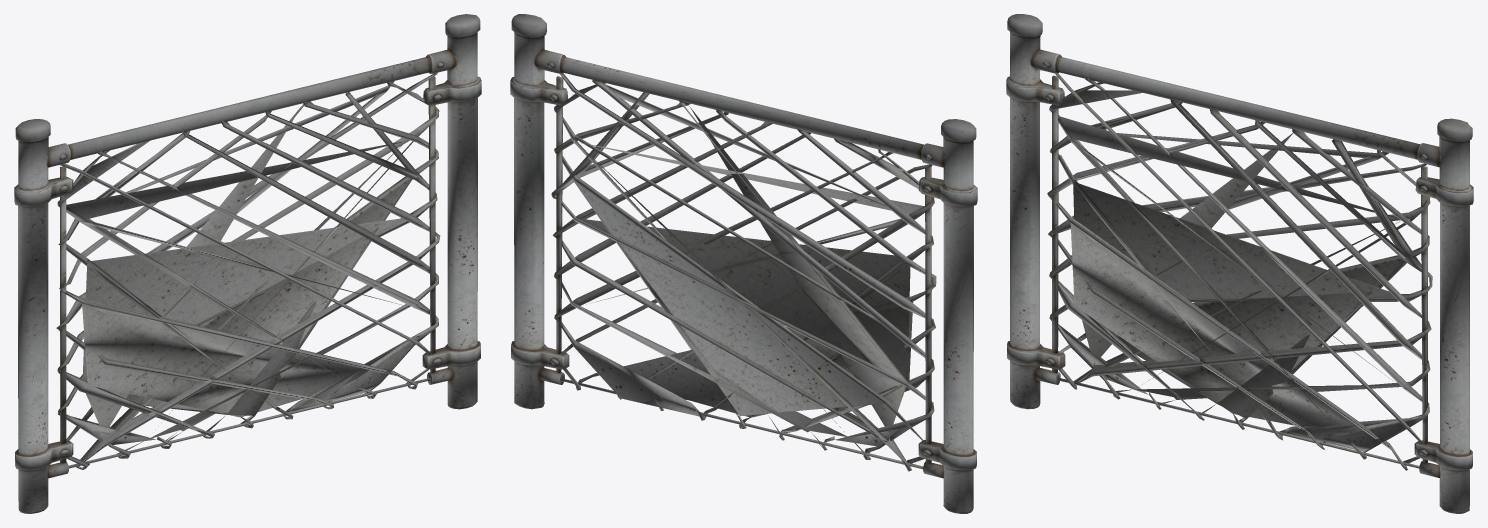
The model's file is fence.glb.
The picture shows the model from 3 angles, left to right: view 1: azimuth 30°, elevation 25°; view 2: azimuth 150°, elevation 25°; view 3: azimuth 330°, elevation 25°; orthographic projection.
Visible parts, largest first — view 1: fence; view 2: fence; view 3: fence.
Boxes of the visible parts, x1,y1,x2,y2 form: fence: (14, 14, 481, 513); fence: (510, 14, 977, 513); fence: (1006, 14, 1473, 513).
Bounding box in the file's own units: 1.51 × 1.2 × 0.08.
Materials: 1 (1 with a texture image).
